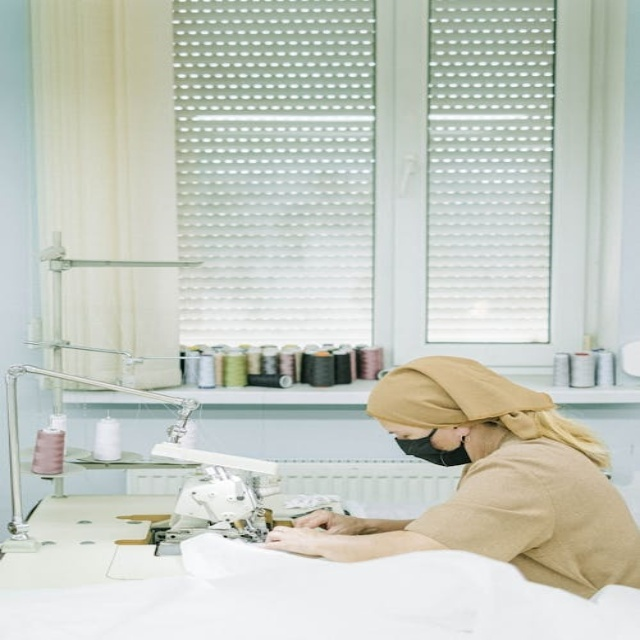Mascara: (395, 428, 472, 468)
Sin_gafas: (381, 423, 413, 440)
Sin_guantes: (260, 523, 337, 557), (288, 502, 364, 536)
